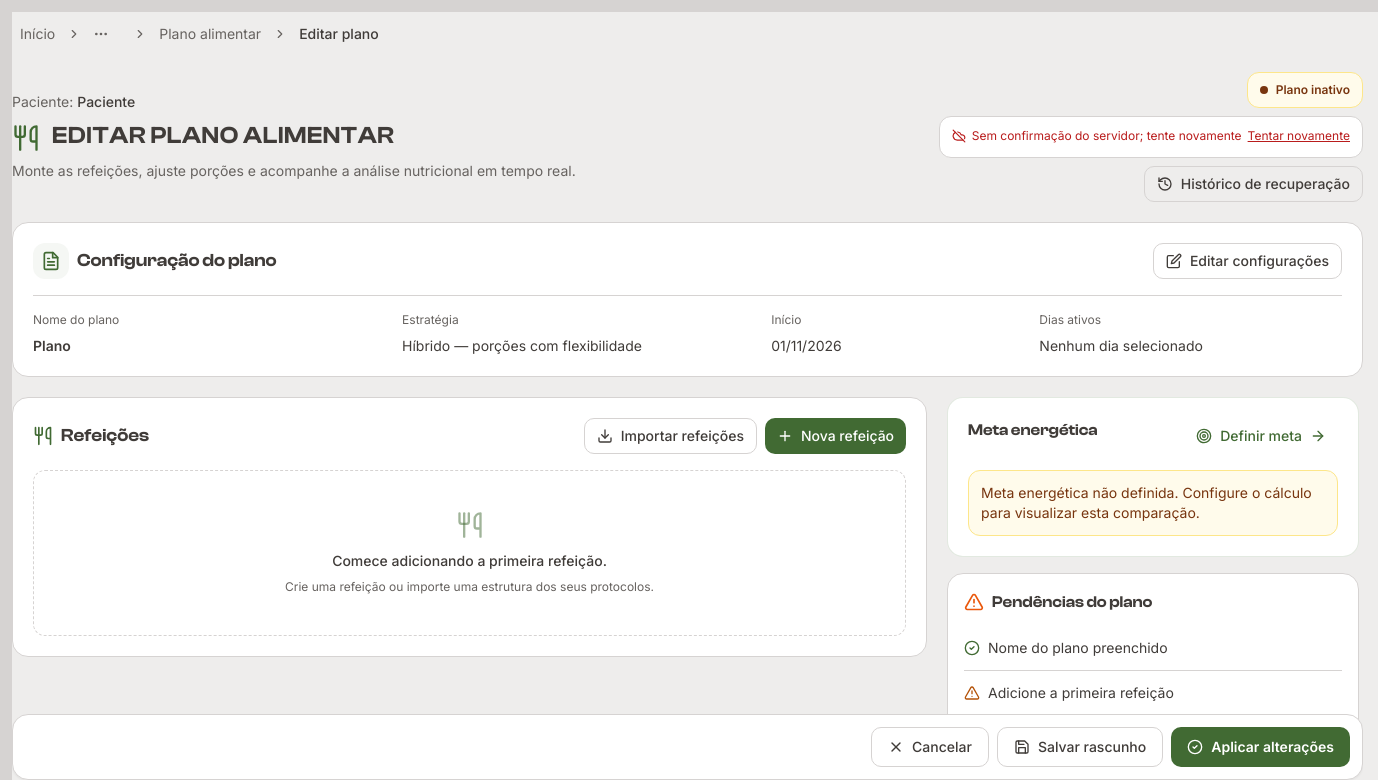
Test: prevents an ancestor exit while the error working session cannot be persisted
Click the button "Editar configurações". click: (1247, 261)
box: x1=1153 y1=243 x2=1342 y2=279
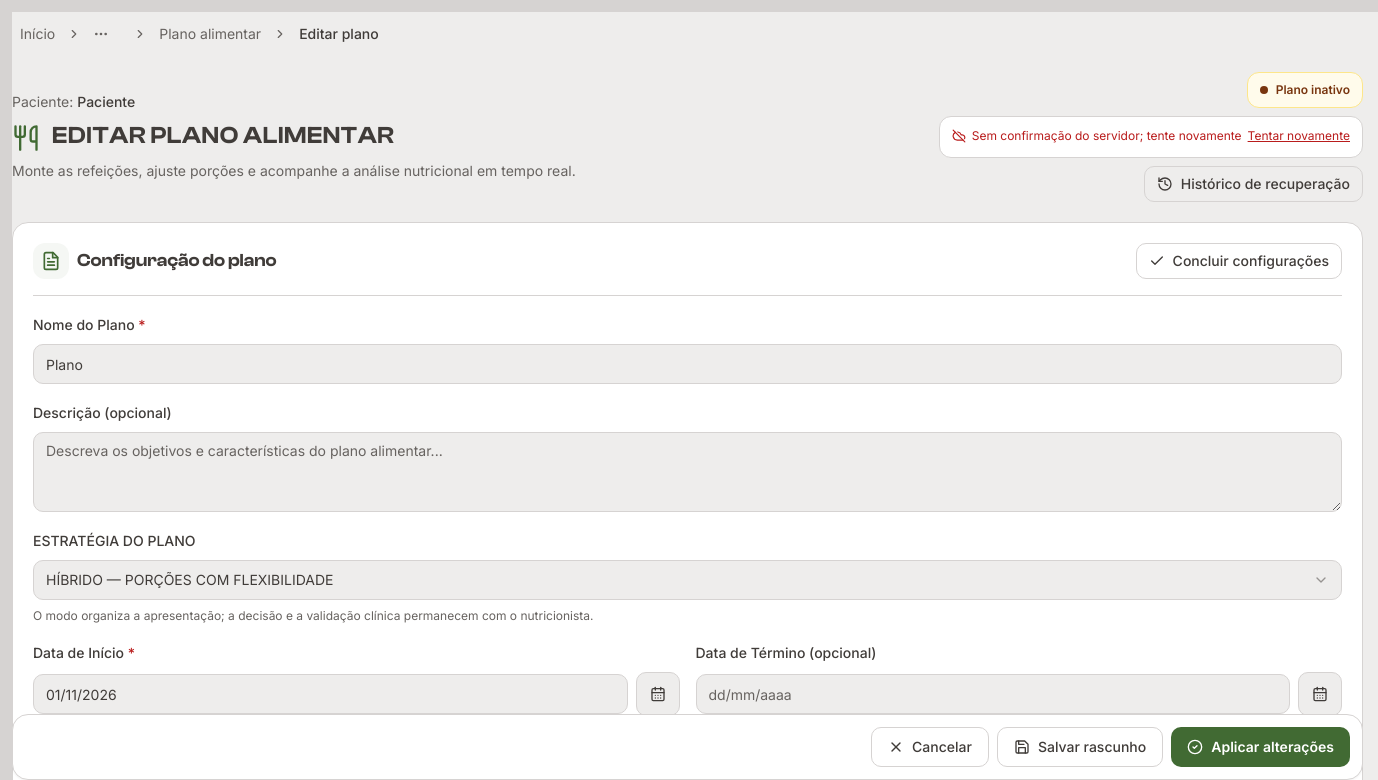
Replace the text in the field labelled "Nome do Plano *" with "Edição sintética pendente". click: (688, 364)
box: x1=33 y1=344 x2=1342 y2=384
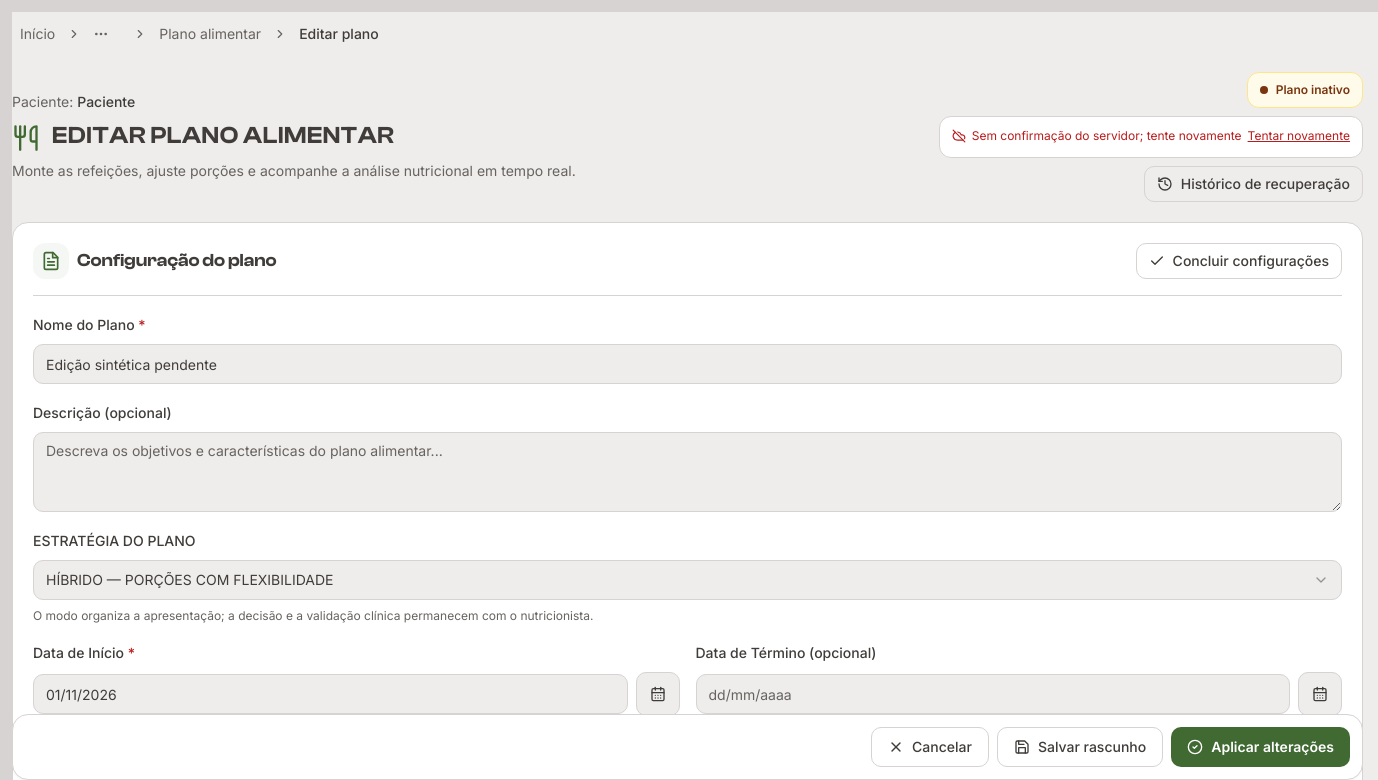
Click the button "Início". click: (38, 34)
box: x1=12 y1=12 x2=63 y2=56
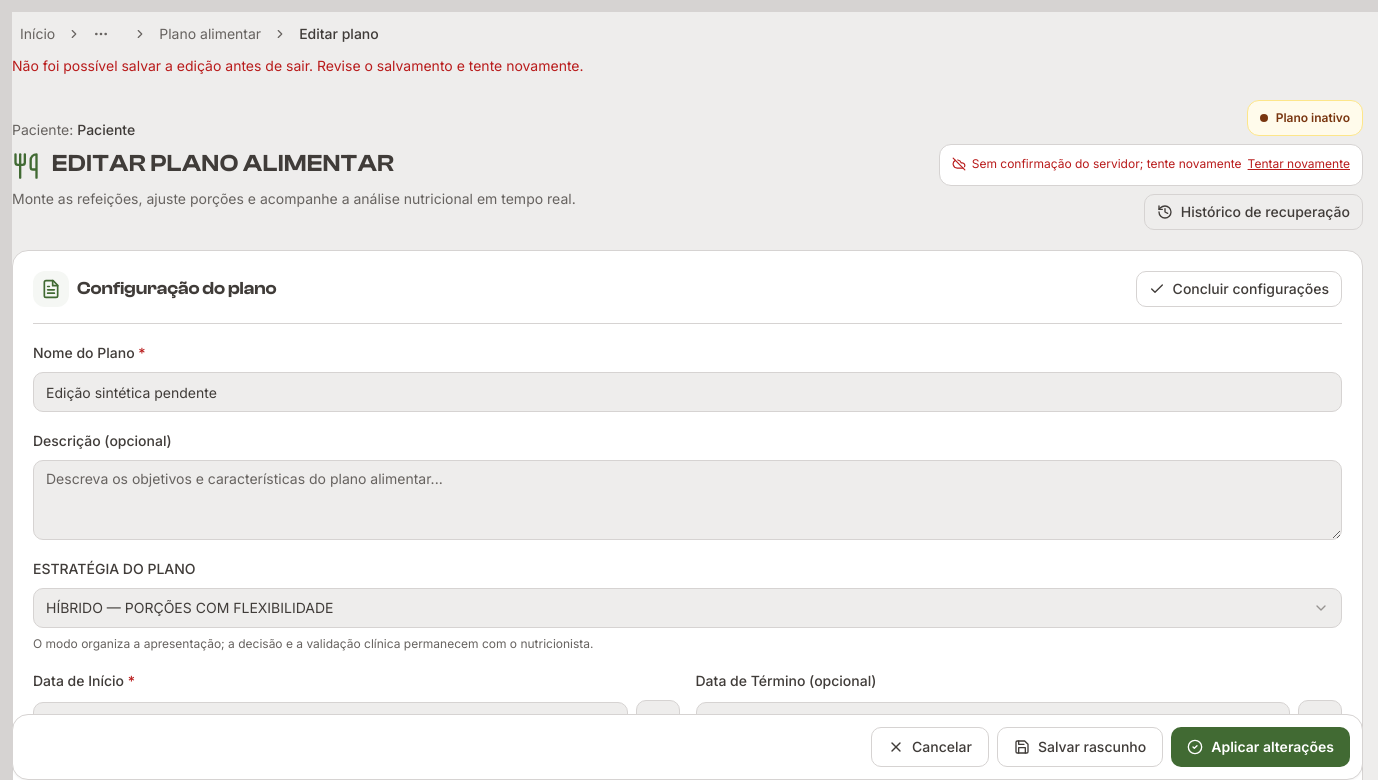
Check: the 1st message shows "Não foi possível salvar", box x1=12 y1=57 x2=584 y2=74
